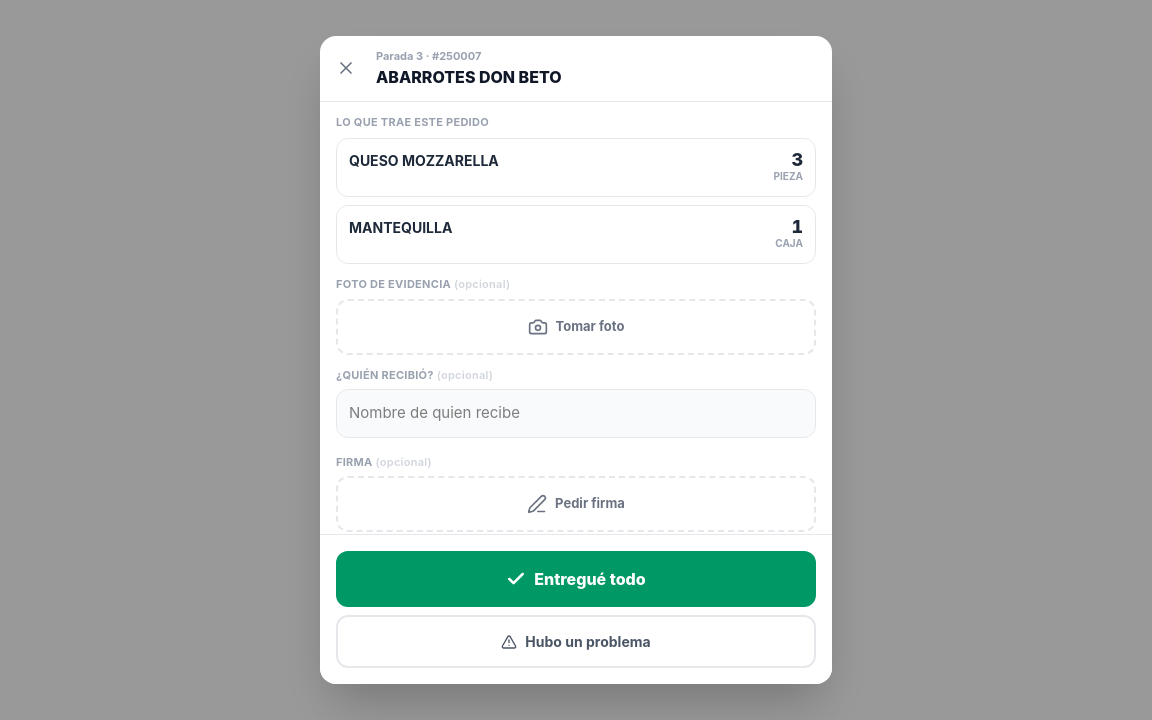
los motivos vienen del backend, no de una copia › usa el catálogo que le pasan
Click the button "Hubo un problema": (576, 642) [336, 615, 816, 668]
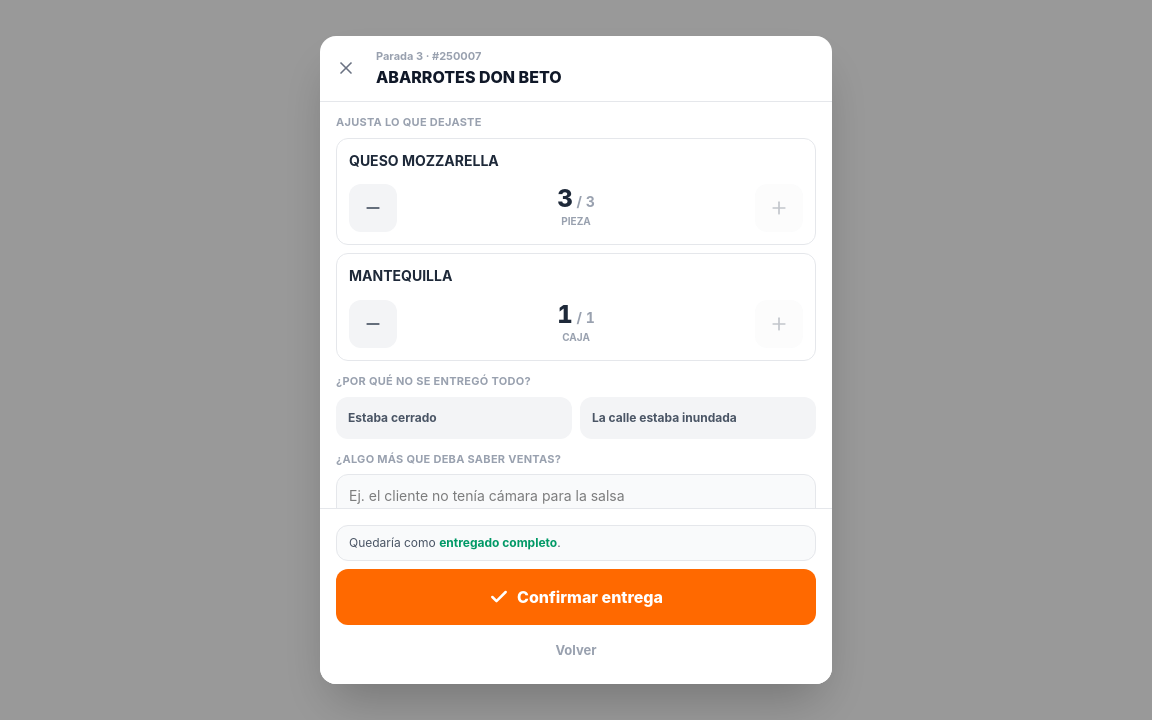
Now the button "La calle estaba inundada" is shown, box [580, 397, 816, 439]
